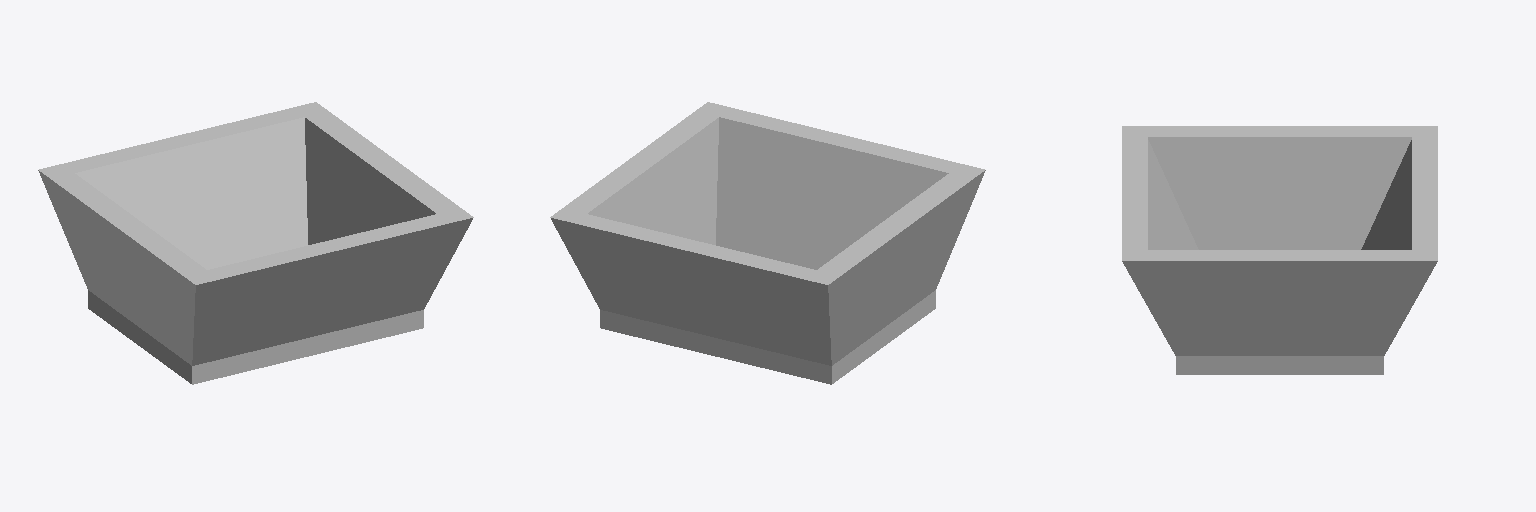
File: bowl.obj
3 renders of one model, left to right at view 1: azimuth 30°, elevation 25°; view 2: azimuth 150°, elevation 25°; view 3: azimuth 270°, elevation 25°, orthographic.
Parts seen in each view (by area): view 1: Cube_Cube.001; view 2: Cube_Cube.001; view 3: Cube_Cube.001.
Boxes of the visible parts, box(x1,y1,x2,y2) form: Cube_Cube.001: box(38, 102, 473, 384); Cube_Cube.001: box(550, 102, 985, 384); Cube_Cube.001: box(1122, 126, 1437, 374).
Size of the model in its own units: 12.16 by 5.21 by 11.96.